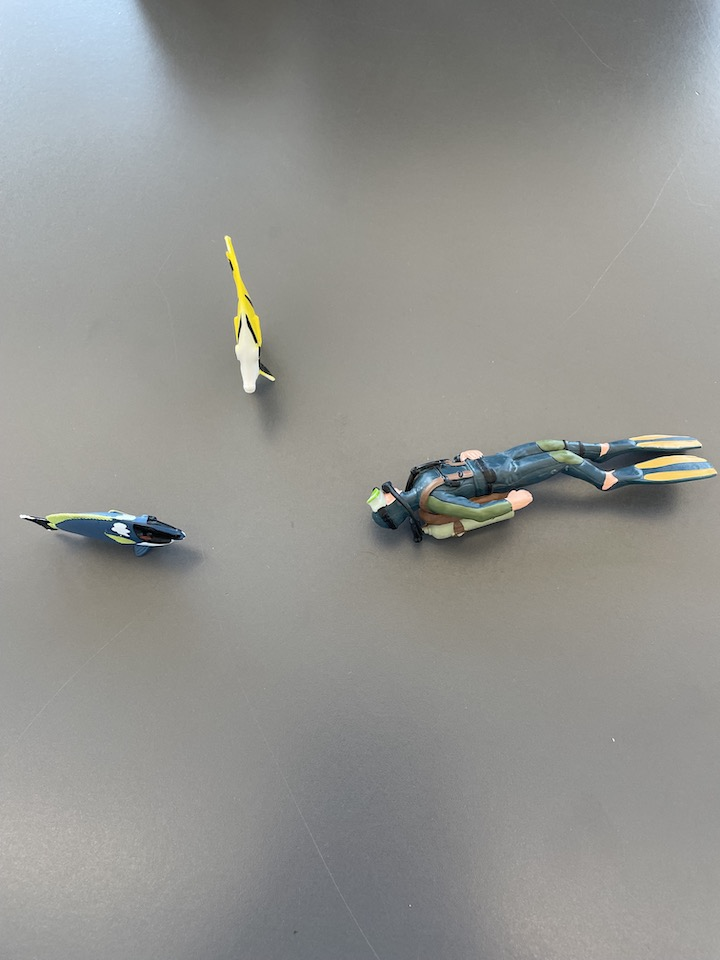danger: (217, 232, 289, 402)
diver: (363, 429, 720, 546)
fish: (16, 500, 191, 562)
